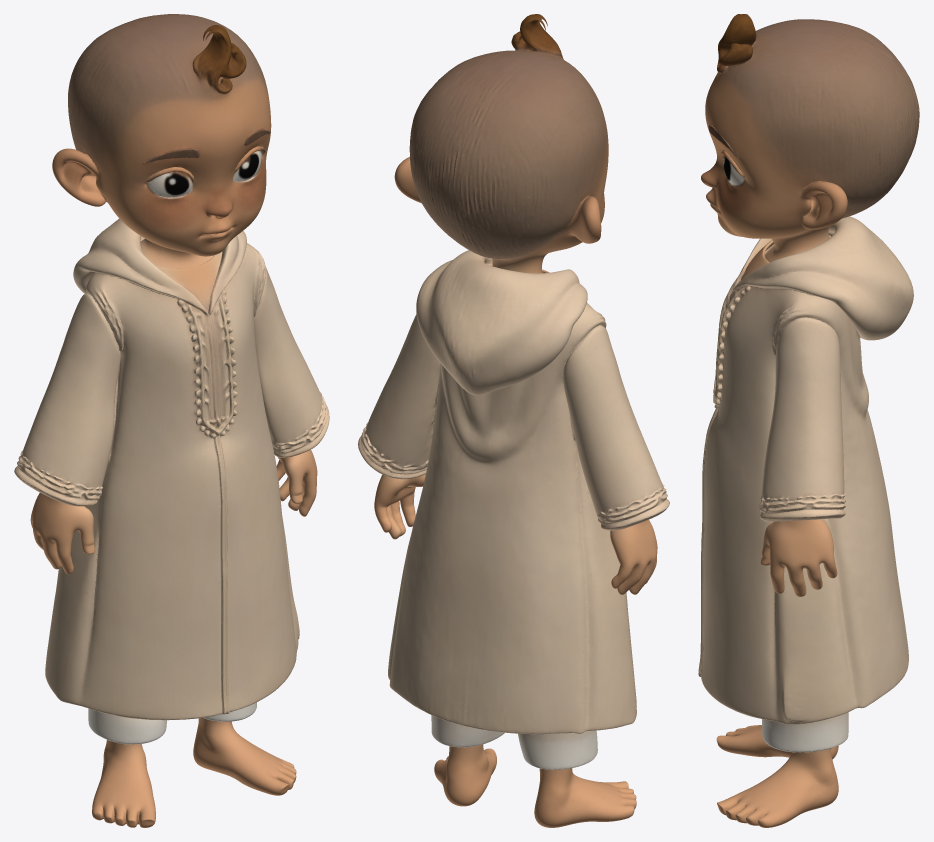
File: mohammed_rodin__base_basic_pbr.glb
3 views of the same model, side by side, from view 1: azimuth 30°, elevation 25°; view 2: azimuth 150°, elevation 25°; view 3: azimuth 270°, elevation 25° (orthographic).
Parts seen in each view (by area): view 1: model; view 2: model; view 3: model.
Part boxes in pixels (x1,y1,x2,y2): model: (14,14,329,827); model: (358,14,669,827); model: (698,14,919,827).
Bounding box in the file's own units: 0.7807 × 1.9 × 0.492.
Materials: 1 (1 with a texture image).
